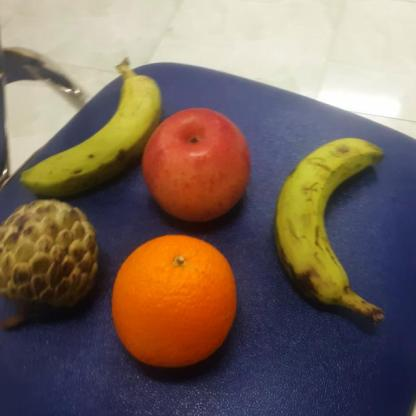annona: (0, 196, 104, 308)
apple: (141, 105, 252, 224)
banana: (14, 64, 164, 200), (270, 134, 386, 305)
orange: (110, 231, 236, 370)
